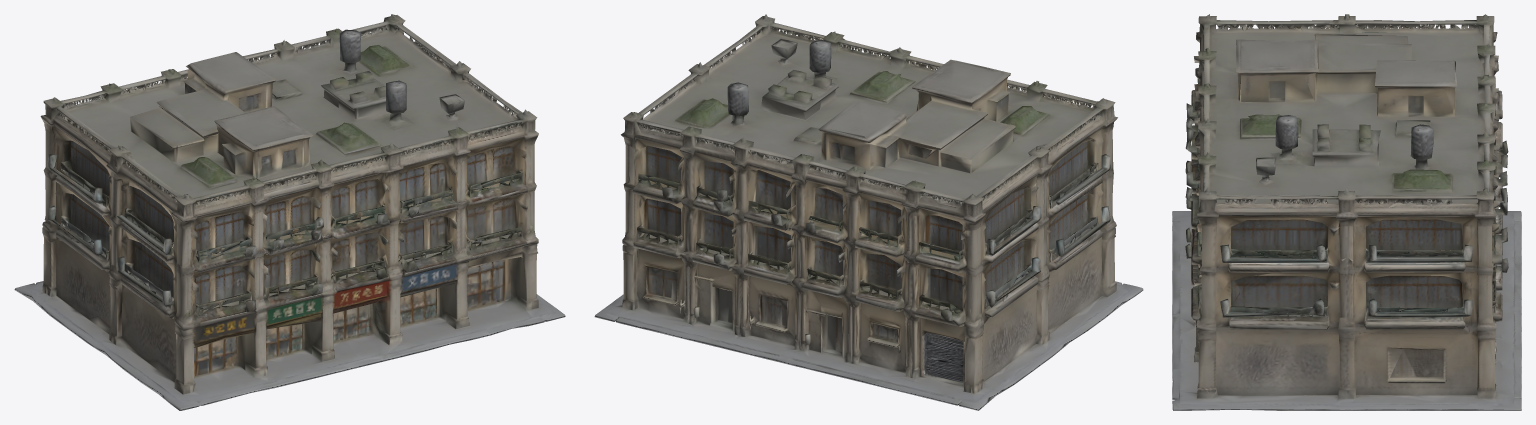
File: historic_storefront_61.glb
The picture shows the model from 3 angles, left to right: view 1: azimuth 30°, elevation 25°; view 2: azimuth 150°, elevation 25°; view 3: azimuth 270°, elevation 25°; orthographic projection. The views are drawn at different scales.
Visible parts, largest first — view 1: tripo_node_6ac991cd-9a26-4edc-b0d5-8fba2dccdb29; view 2: tripo_node_6ac991cd-9a26-4edc-b0d5-8fba2dccdb29; view 3: tripo_node_6ac991cd-9a26-4edc-b0d5-8fba2dccdb29.
Part boxes in pixels (left/top/right/bottom): tripo_node_6ac991cd-9a26-4edc-b0d5-8fba2dccdb29: left=14, top=14, right=565, bottom=410; tripo_node_6ac991cd-9a26-4edc-b0d5-8fba2dccdb29: left=594, top=14, right=1143, bottom=410; tripo_node_6ac991cd-9a26-4edc-b0d5-8fba2dccdb29: left=1172, top=14, right=1521, bottom=410.
Size of the model in its own units: 0.9772 by 0.5386 by 0.7277.
Materials: 1 (1 with a texture image).
